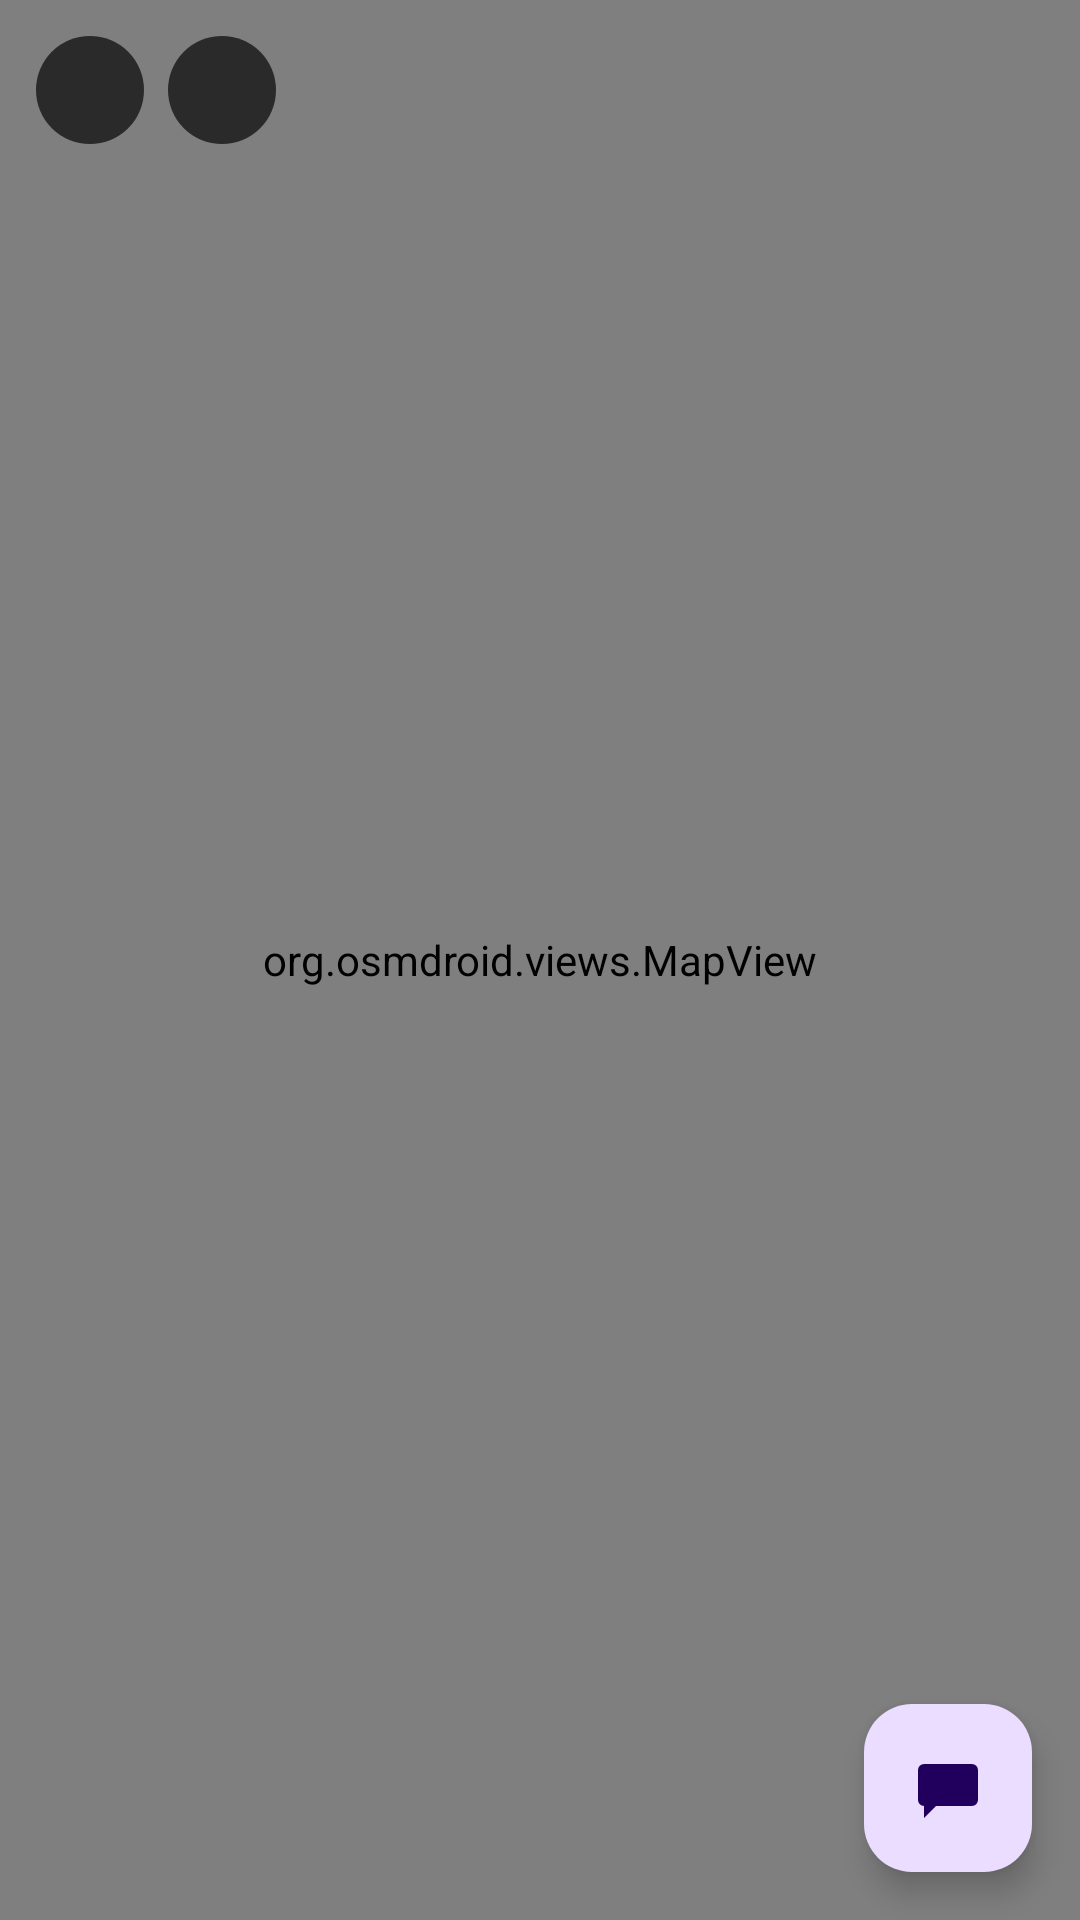

Icons on this 1080px×1920px Android screen, each with the point to tap as (x,y):
AI Chat: (948,1788)
